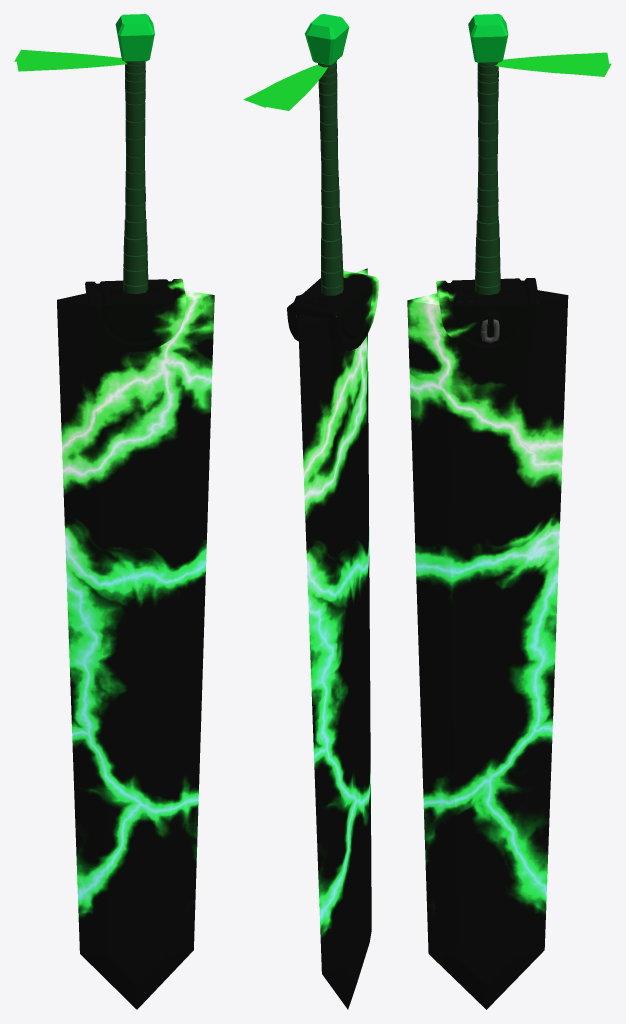
The model's file is espada-panic-diama.glb.
3 renders of one model, left to right at view 1: azimuth 90°, elevation 25°; view 2: azimuth 150°, elevation 25°; view 3: azimuth 270°, elevation 25°, orthographic.
Parts seen in each view (by area): view 1: Dragon Slayer, handle, fabric, pommel; view 2: Dragon Slayer, handle, fabric, pommel; view 3: Dragon Slayer, handle, fabric, pommel.
Boxes of the visible parts, left/top/right/bottom form: Dragon Slayer: left=57, top=278, right=214, bottom=1009; handle: left=123, top=61, right=148, bottom=294; fabric: left=14, top=49, right=126, bottom=71; pommel: left=115, top=14, right=154, bottom=61; Dragon Slayer: left=287, top=268, right=378, bottom=1009; handle: left=318, top=61, right=343, bottom=295; fabric: left=243, top=64, right=327, bottom=110; pommel: left=304, top=14, right=349, bottom=64; Dragon Slayer: left=407, top=278, right=568, bottom=1009; handle: left=475, top=62, right=500, bottom=295; fabric: left=494, top=52, right=611, bottom=76; pommel: left=468, top=14, right=508, bottom=62.
Size of the model in its own units: 0.1385 by 2.03 by 0.3768.
5 materials, 2 textured.
